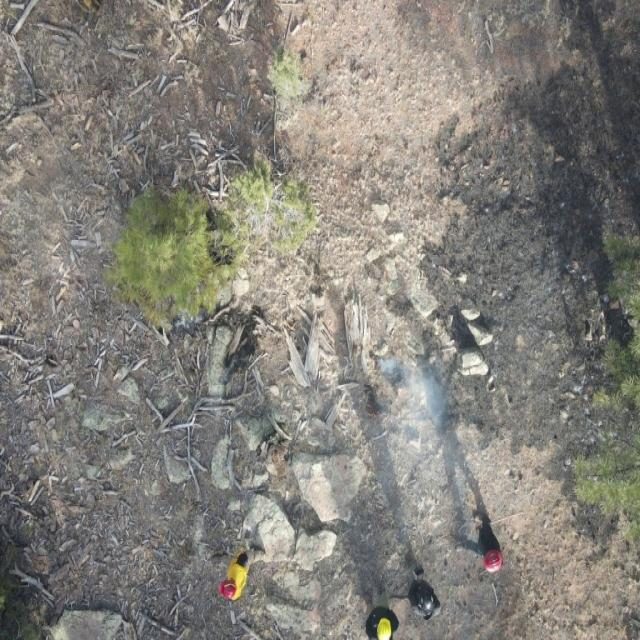fire: (360, 398, 384, 423)
smoke: (377, 353, 470, 514)
